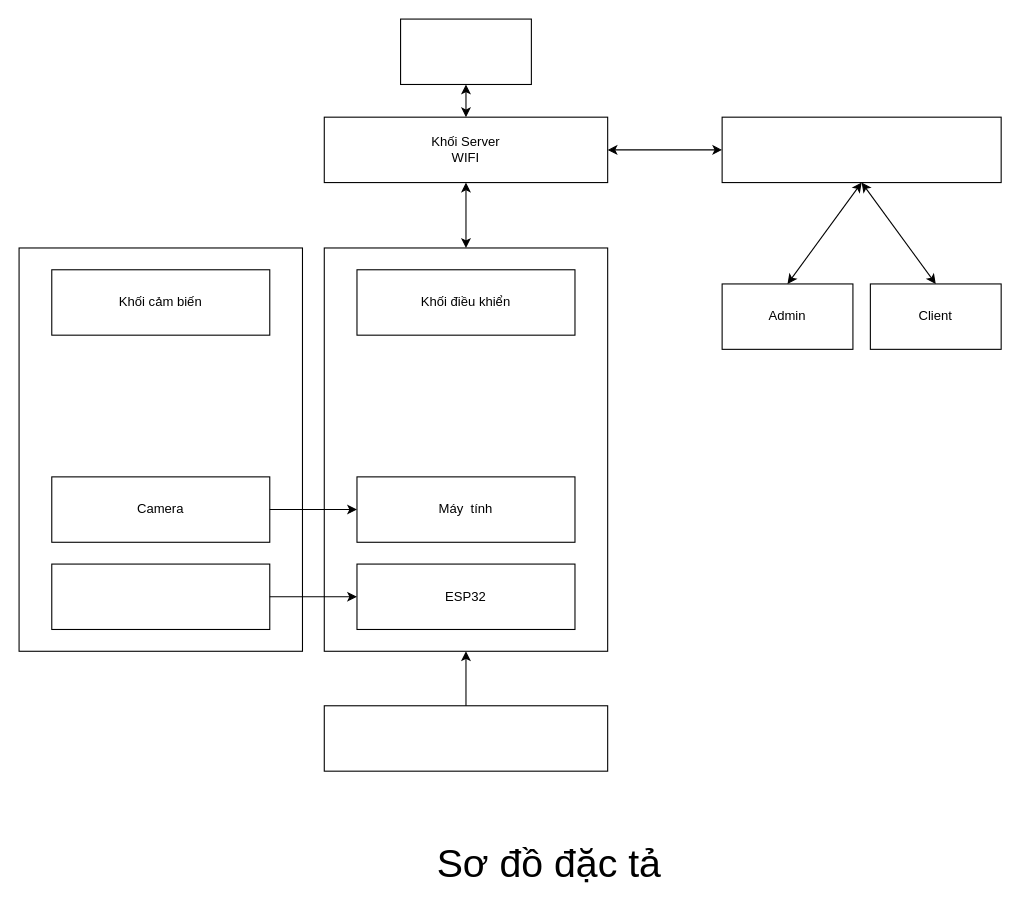
Image size: 1020x906. Some labels were removed from this diagram. The box of each missing label's shape, as (x1, y1, x2, y2) in pixels:
Cảm biến cân nặng: (51, 563, 270, 629)
Database: (399, 18, 531, 84)
Khối nguồn: (323, 705, 608, 771)
WEB: (721, 116, 1001, 183)
